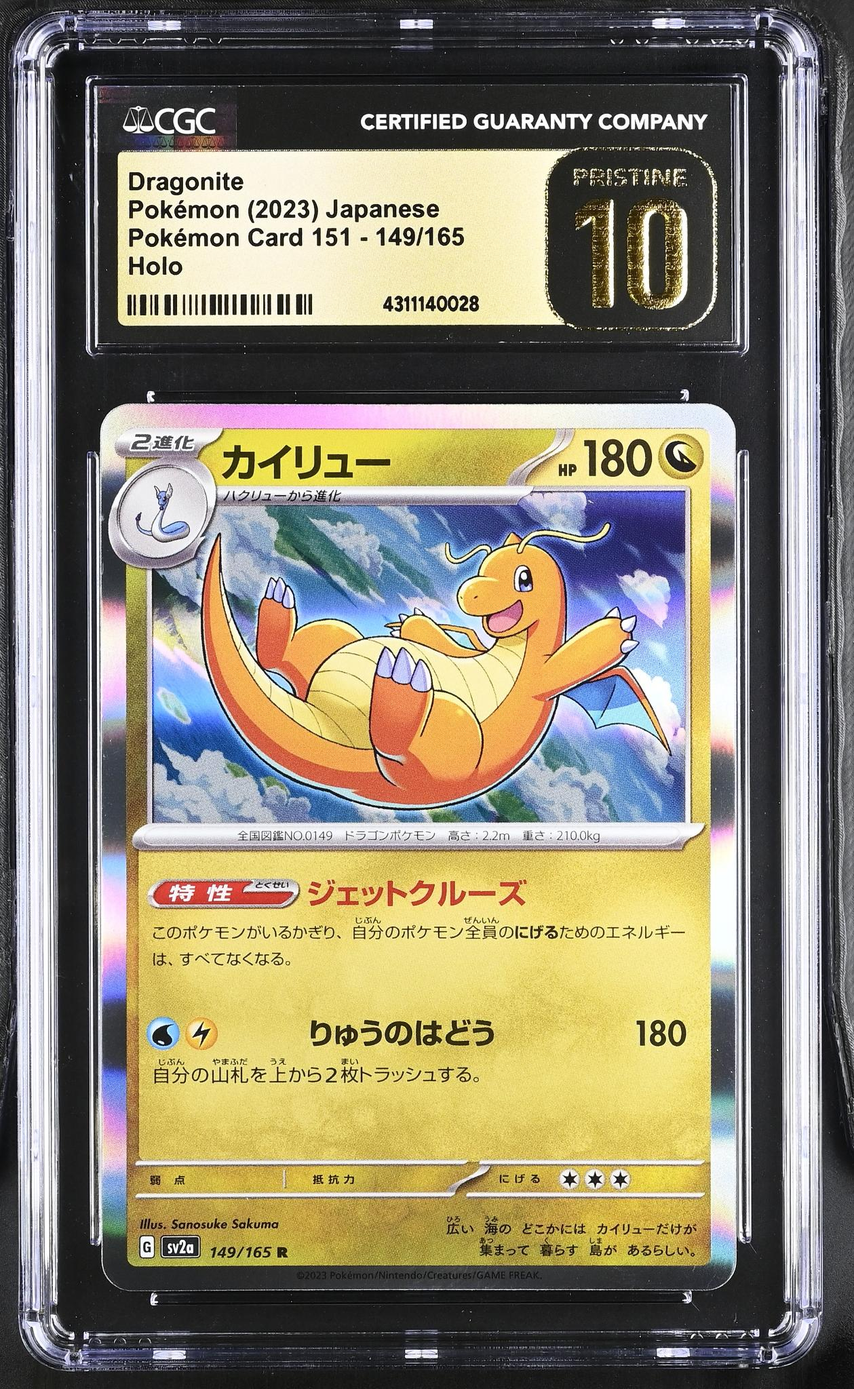card-2UtV: (100, 403, 737, 1292)
